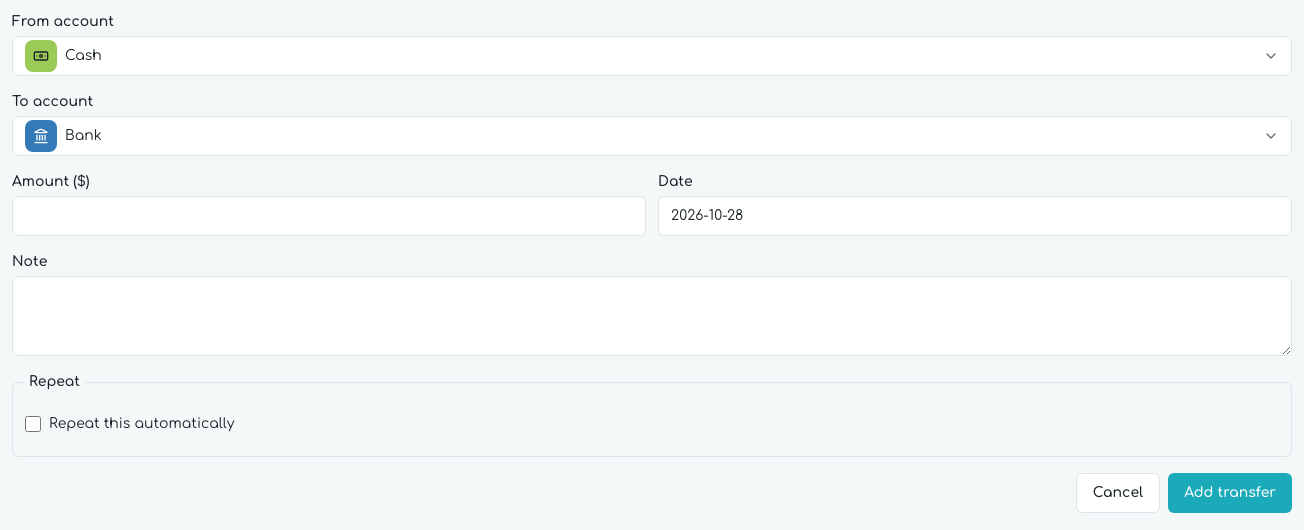
Test: TransferForm › moves To to another account when From is changed to the current To
The width and height of the screenshot is (1304, 530).
Step 1. Click the dropdown named "From account" → click(41, 56), box [12,36,1292,76]
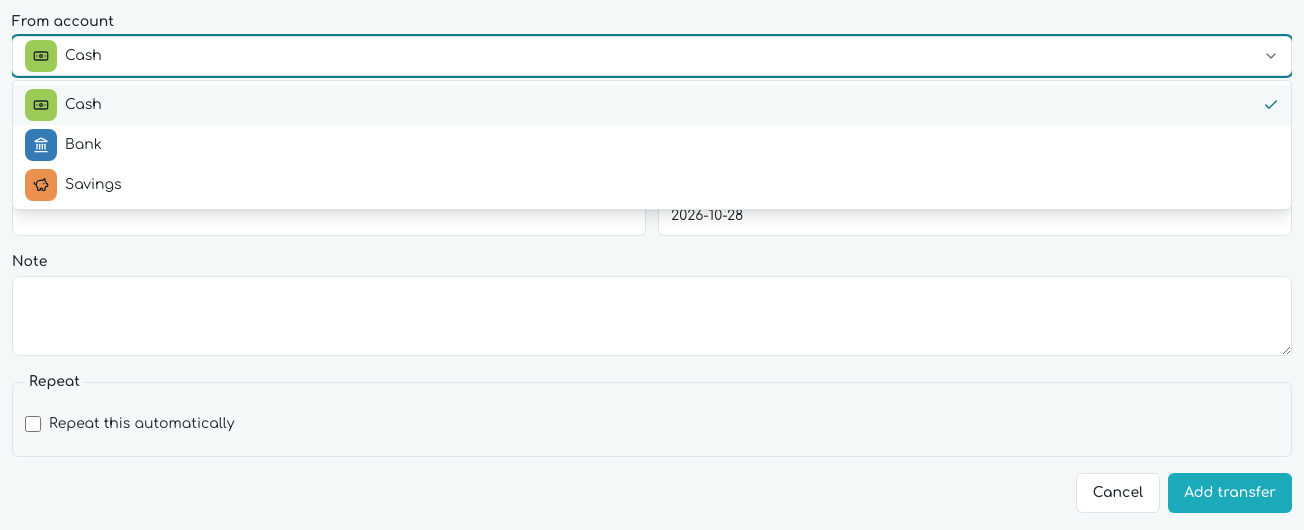
Step 2. Click the option "Bank" → click(63, 145), box [25,129,102,161]
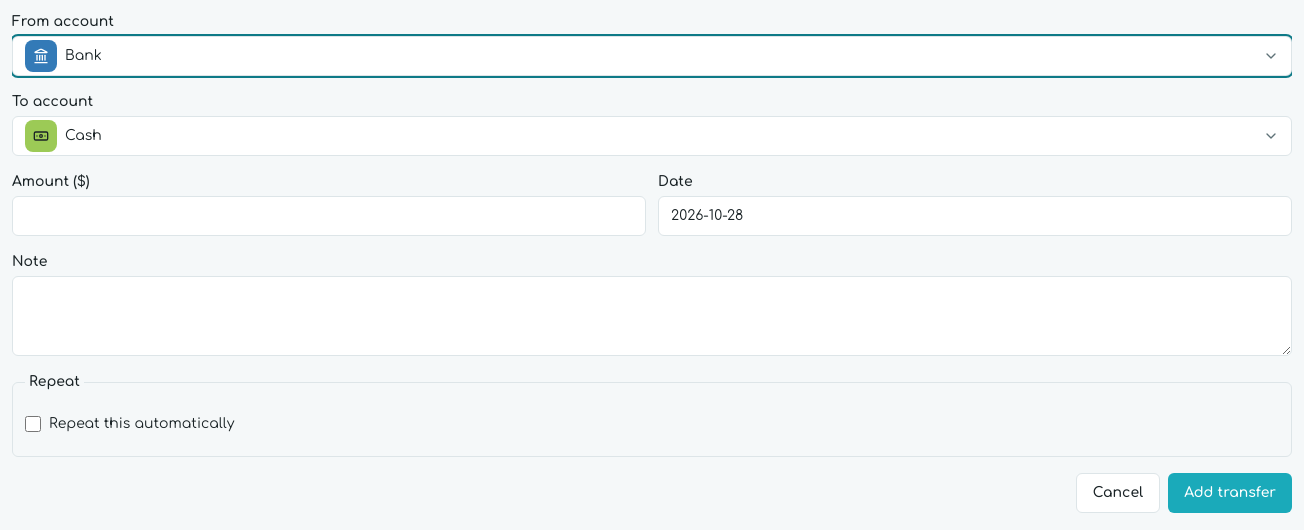
Expected: the dropdown named "To account" reads "Cash", [12,116,1292,156]
